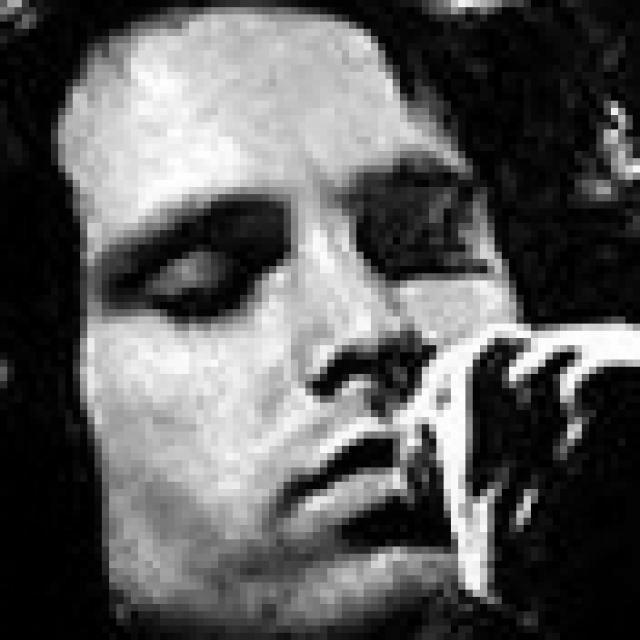real: (42, 4, 552, 632), (131, 188, 478, 316)
